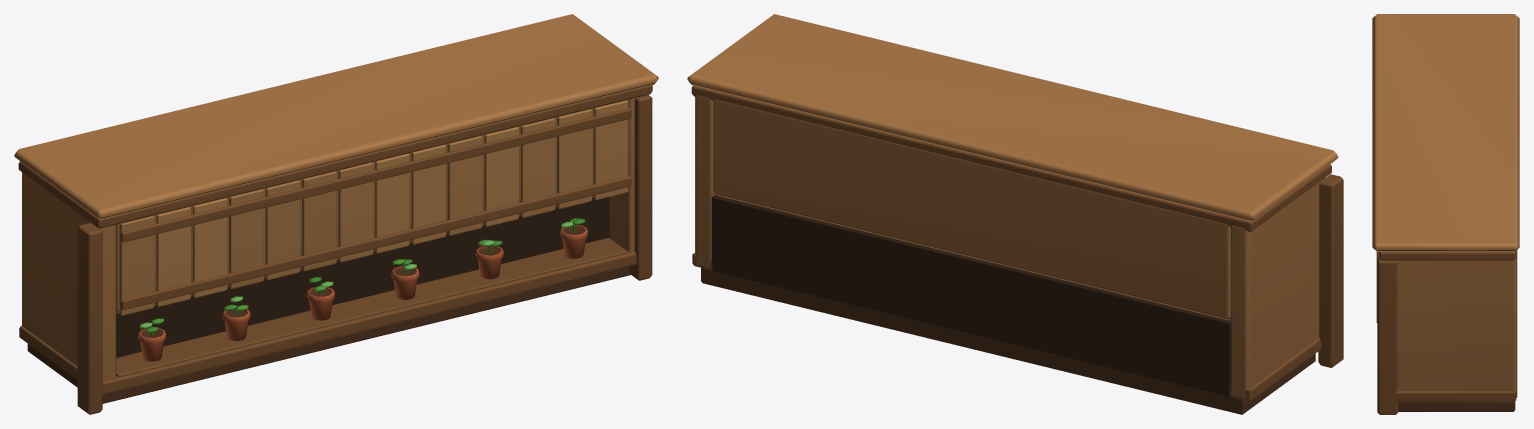
File: furn_disp_counter.glb
3 renders of one model, left to right at view 1: azimuth 30°, elevation 25°; view 2: azimuth 150°, elevation 25°; view 3: azimuth 270°, elevation 25°, orthographic. The views are drawn at different scales.
Parts seen in each view (by area): view 1: furn_disp_counter_main; view 2: furn_disp_counter_main; view 3: furn_disp_counter_main.
Boxes of the visible parts, box(x1,y1,x2,y2) form: furn_disp_counter_main: box(14, 14, 658, 414); furn_disp_counter_main: box(687, 14, 1343, 414); furn_disp_counter_main: box(1372, 14, 1519, 414).
Bounding box in the file's own units: 2.9 × 1 × 0.767.
